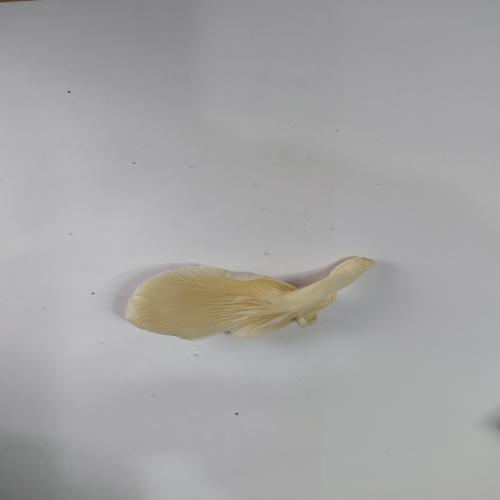Oyster Mushroom: (123, 255, 375, 341)
